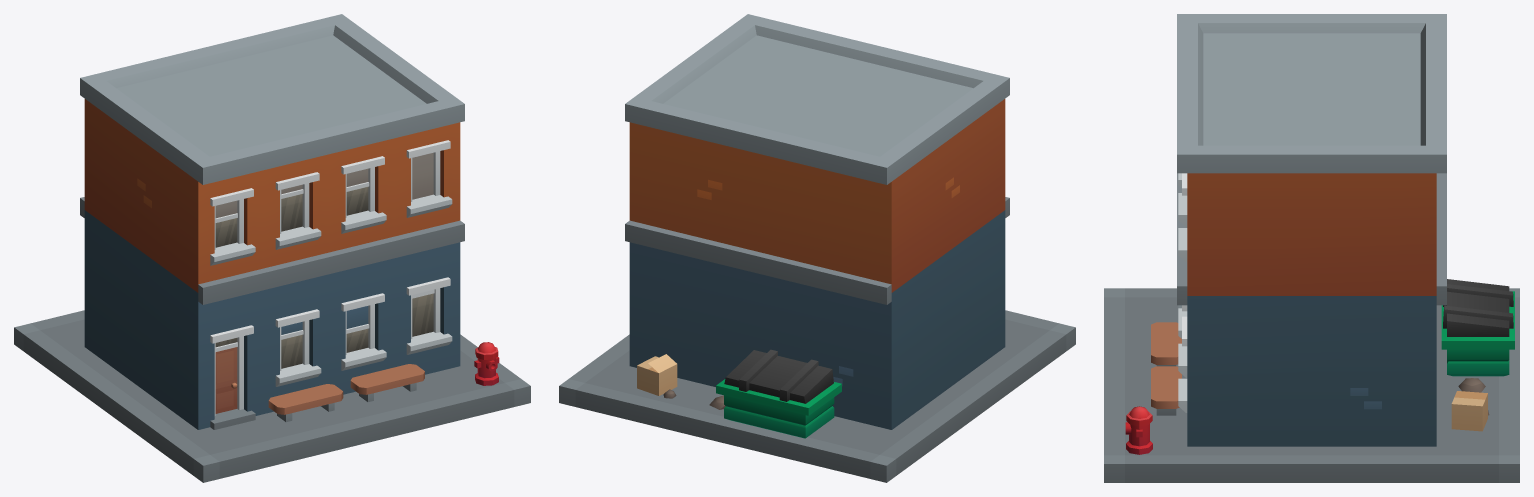
File: building_b.glb
3 renders of one model, left to right at view 1: azimuth 30°, elevation 25°; view 2: azimuth 150°, elevation 25°; view 3: azimuth 270°, elevation 25°, orthographic. The views are drawn at different scales.
Parts seen in each view (by area): view 1: building_B; view 2: building_B; view 3: building_B.
Boxes of the visible parts, x1=… form: building_B: x1=14, y1=14, x2=530, y2=482; building_B: x1=559, y1=14, x2=1075, y2=482; building_B: x1=1104, y1=14, x2=1519, y2=482.
Bounding box in the file's own units: 2 × 1.65 × 2.
1 material, 1 textured.
